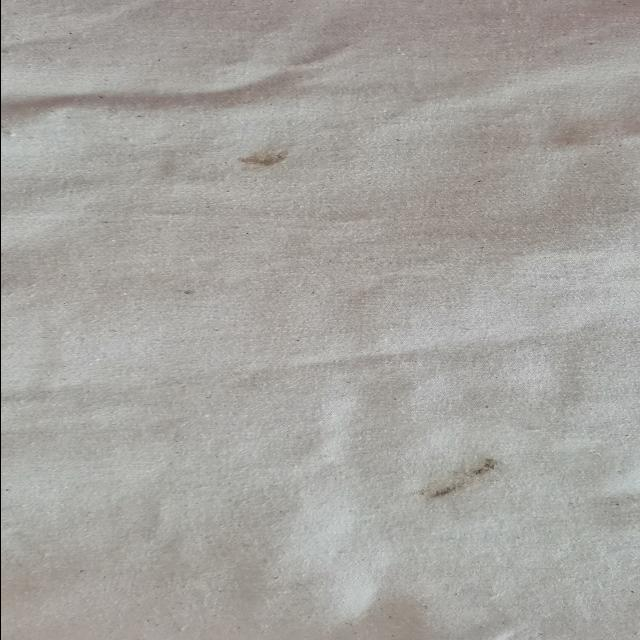taaaches: (413, 456, 525, 506), (222, 142, 294, 172)
